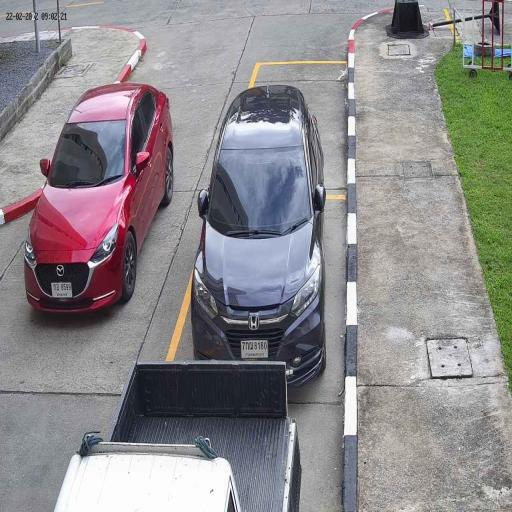car: (190, 86, 326, 388), (55, 364, 305, 512), (24, 81, 176, 321)
